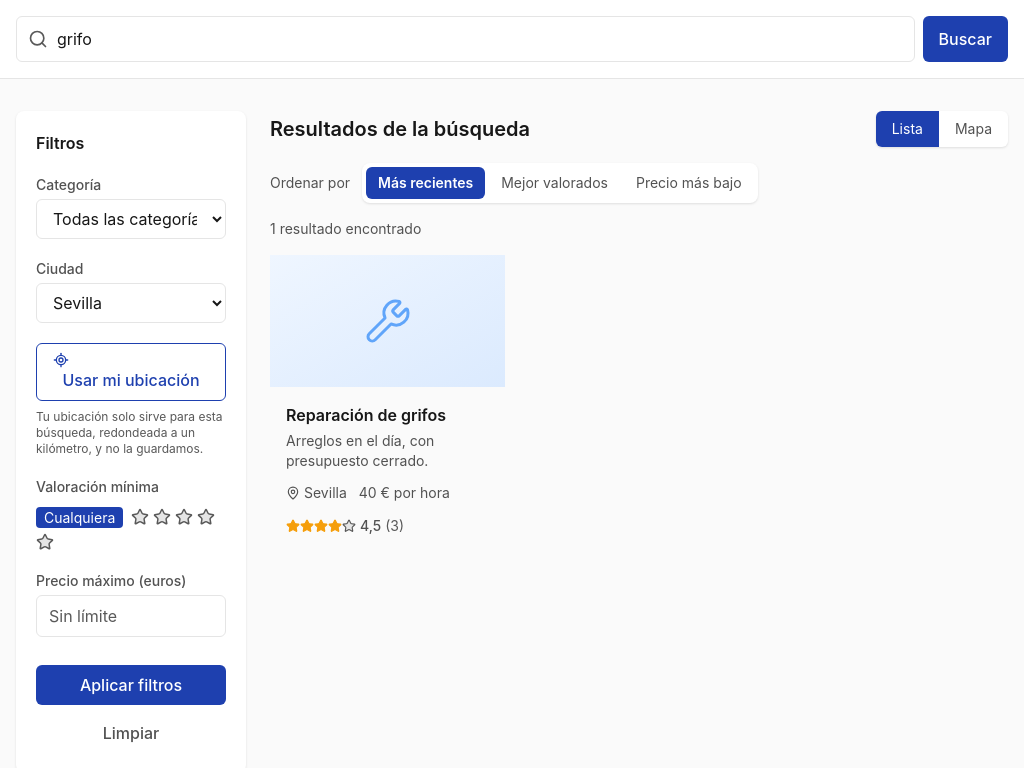
Test case: El buscador › la misma búsqueda en otro orden no navega: se vuelve a pedir
This screenshot has width=1024, height=768.
Expected: the heading "Reparación de grifos" is shown, [286,405,446,425]
What coordinates should you click on to do the following:
click the button "Aplicar filtros"
I would click on:
 (131, 685)
Its box is [36,665,226,705].
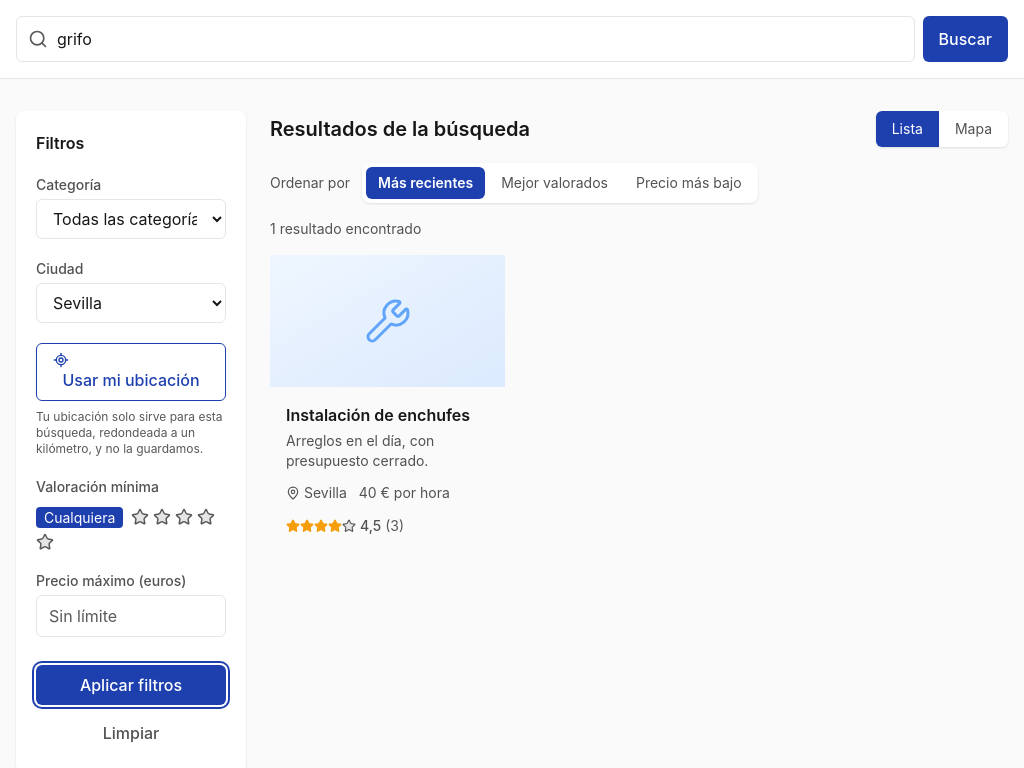
Now the heading "Instalación de enchufes" is shown, box [286,403,489,427]
